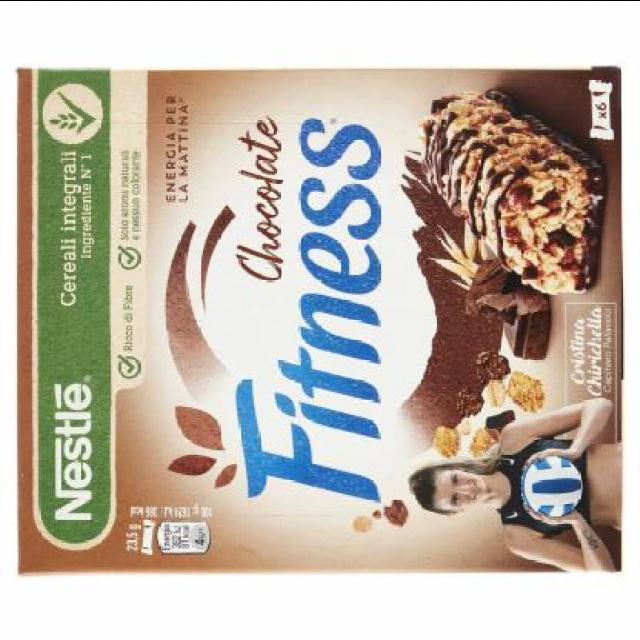Cereal bar: (8, 57, 630, 588)
